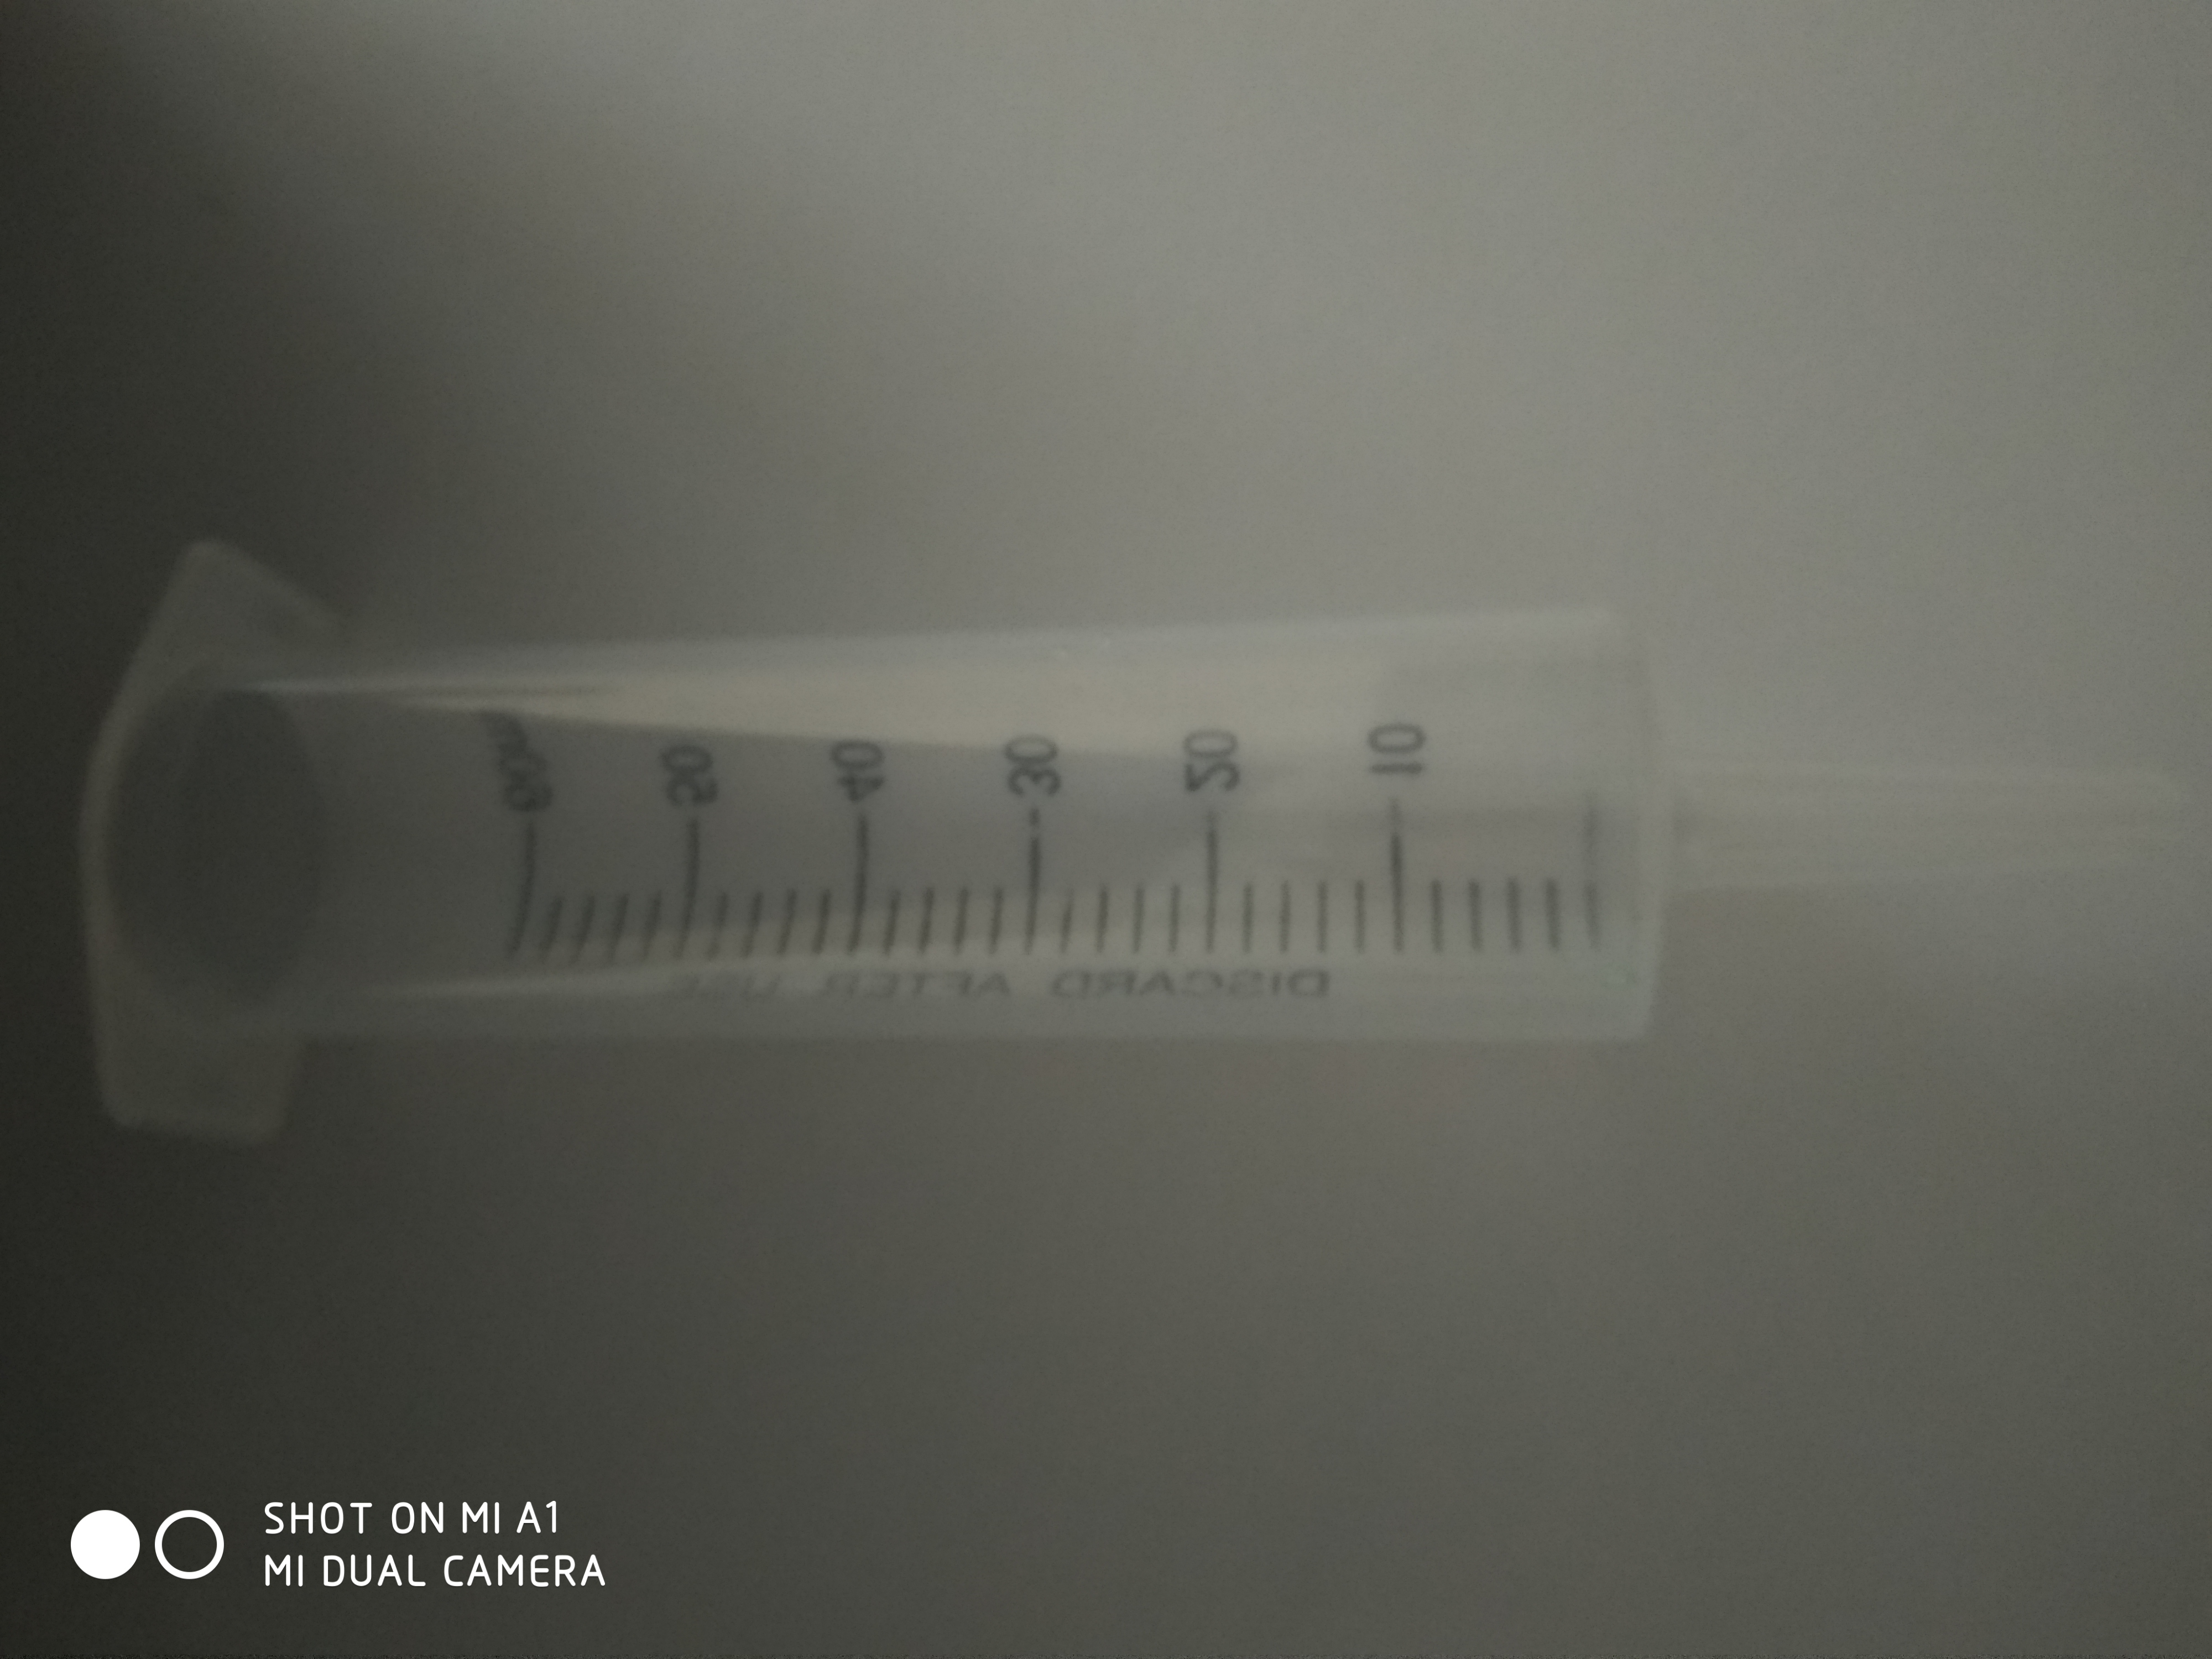syringe: (70, 525, 2207, 1150)
